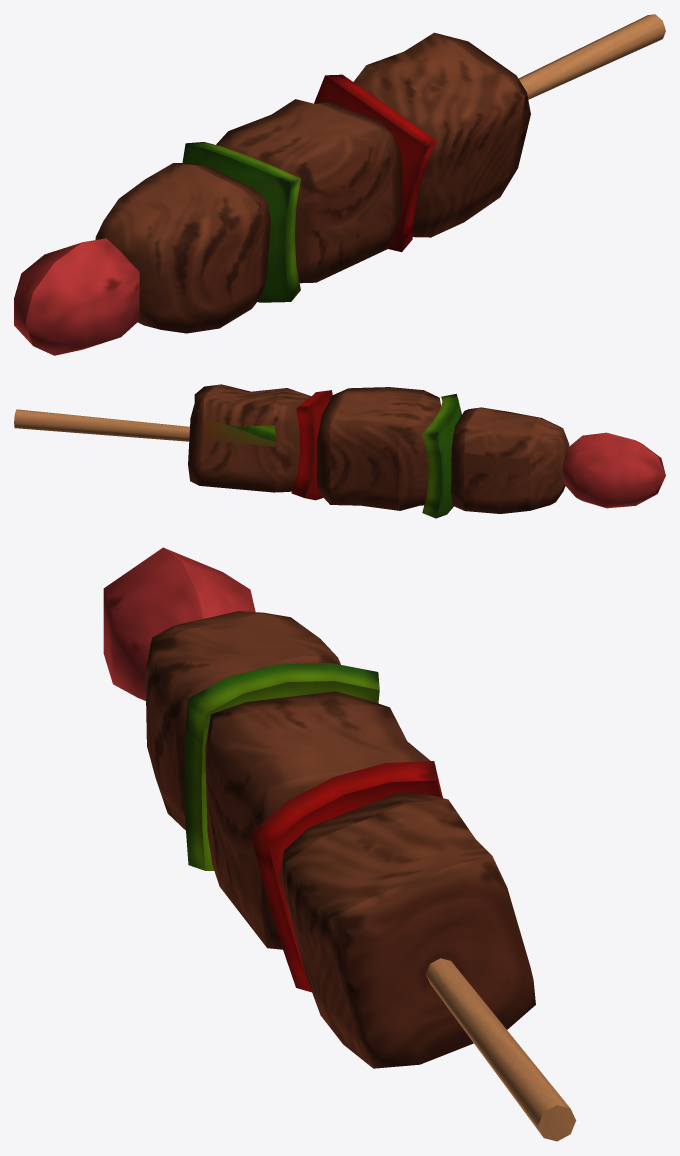
File: BBQ.fbx
3 views of the same model, one above another, from view 1: azimuth 30°, elevation 25°; view 2: azimuth 150°, elevation 25°; view 3: azimuth 270°, elevation 25° (orthographic). The views are drawn at different scales.
Parts seen in each view (by area): view 1: BBQ_1; view 2: BBQ_1; view 3: BBQ_1.
Part boxes in pixels (bbox=[...]): BBQ_1: bbox=[14, 14, 665, 355]; BBQ_1: bbox=[14, 384, 665, 518]; BBQ_1: bbox=[103, 547, 576, 1141].
Size of the model in its own units: 77.19 by 14.11 by 28.75.
1 material, 1 textured.
